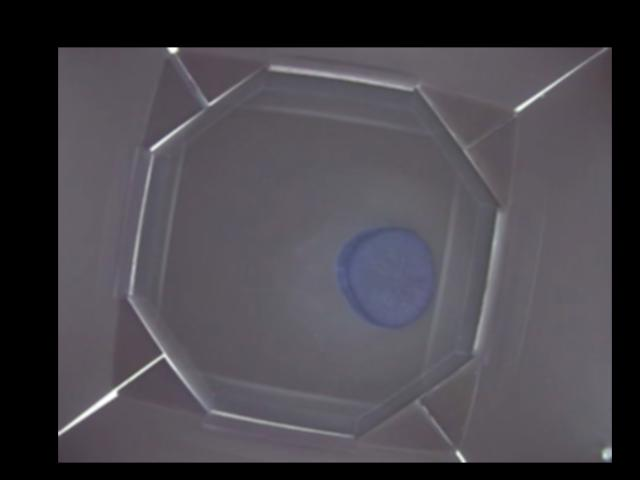Mooli: (335, 228, 437, 326)
